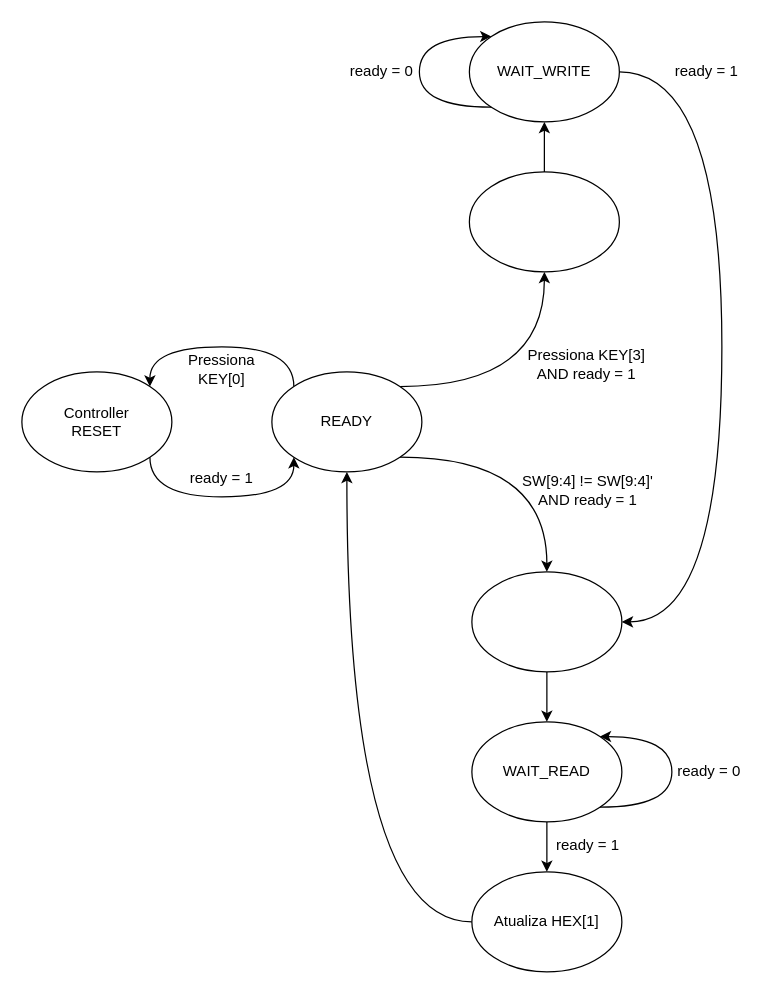
This 769x994 diagram has some shape labels left out. The centre of each missing label's shape, as x and y in pixels:
REQ_READ: the point at 546,621
REQ_WRITE: the point at 543,221
